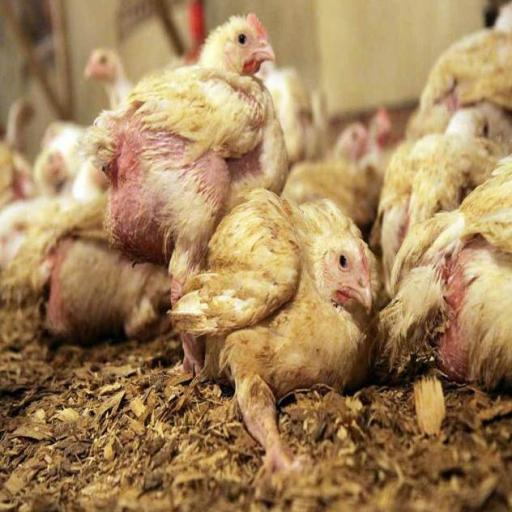healthy: (325, 229, 374, 302), (221, 17, 278, 70)
